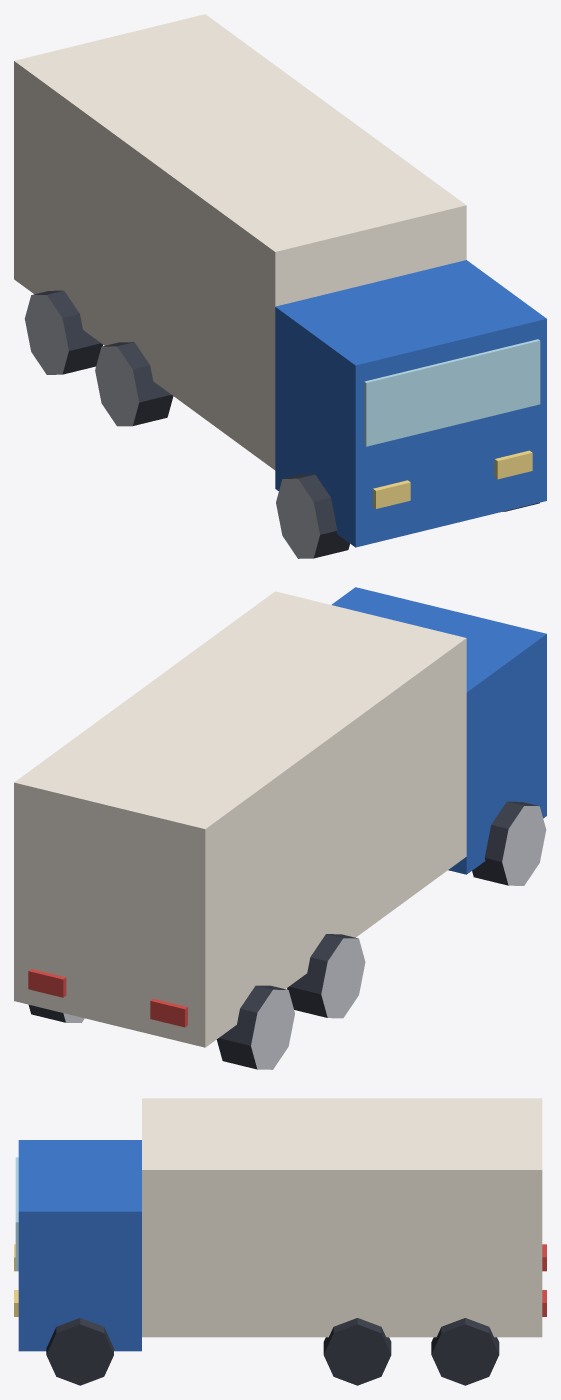
Rendered from vehicle_truck.glb.
The picture shows the model from 3 angles, top to bottom: view 1: azimuth 30°, elevation 25°; view 2: azimuth 150°, elevation 25°; view 3: azimuth 270°, elevation 25°; orthographic projection. The views are drawn at different scales.
Visible parts, largest first — view 1: vehicle_truck; view 2: vehicle_truck; view 3: vehicle_truck.
Boxes of the visible parts, x1,y1,x2,y2 form: vehicle_truck: (14, 14, 546, 558); vehicle_truck: (14, 587, 546, 1069); vehicle_truck: (14, 1098, 546, 1385).
Bounding box in the file's own units: 0.13 × 0.15 × 0.346.
